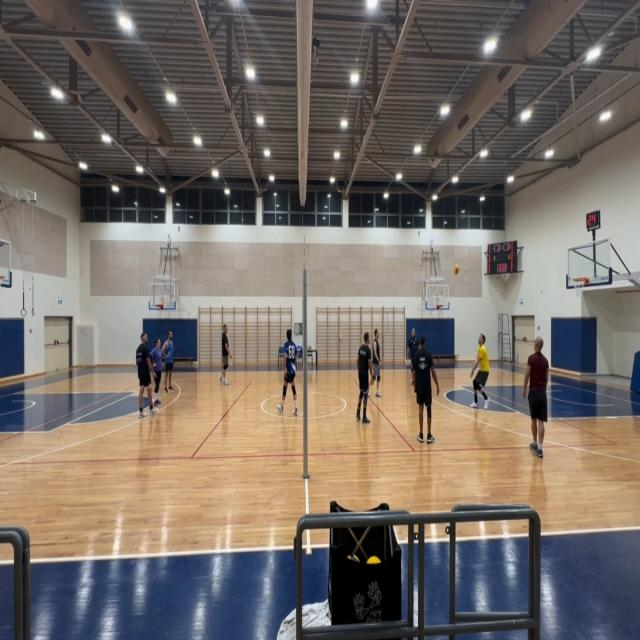volleyball: (454, 264, 459, 275)
